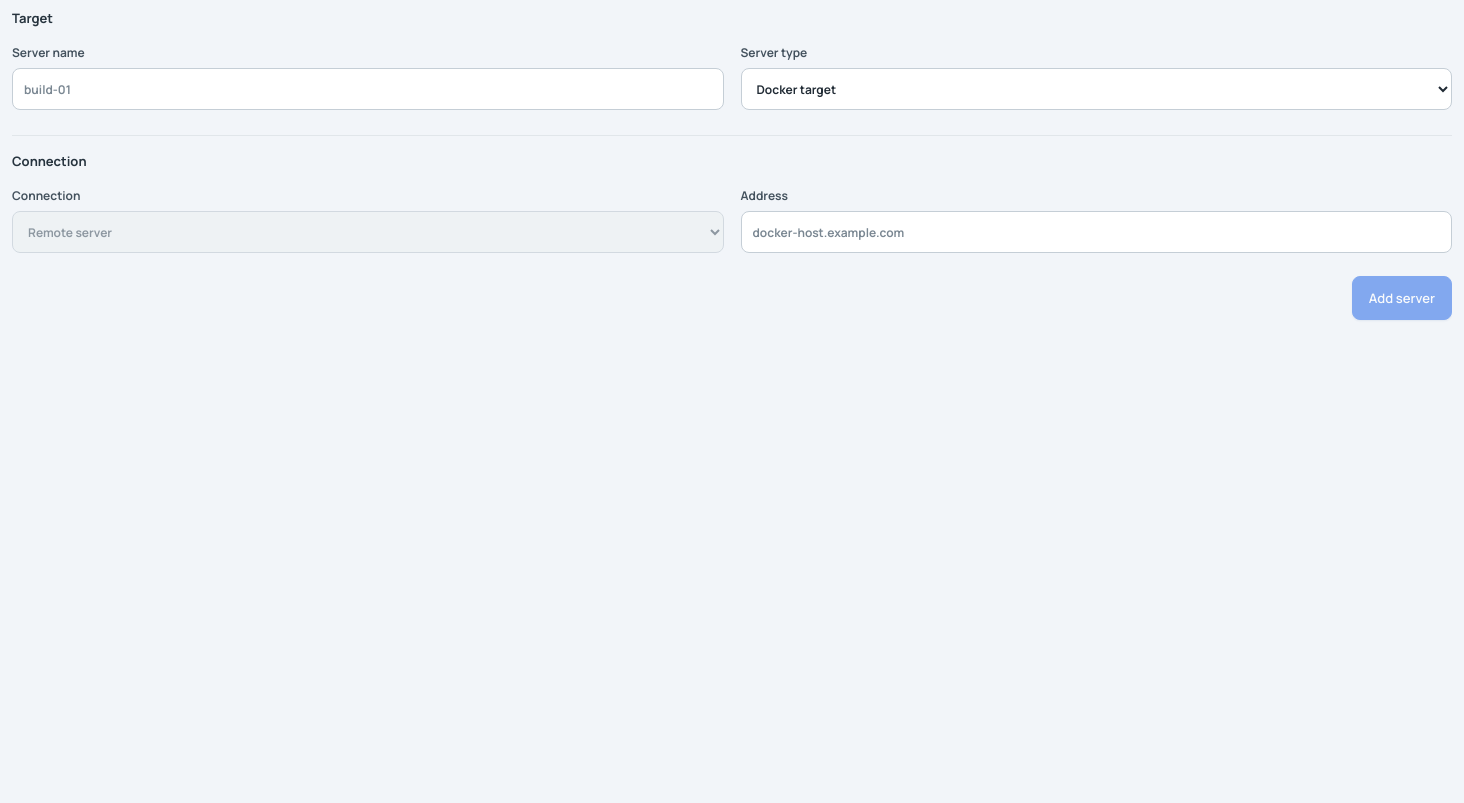
Test: Docker builder setup › fills the pinned key after checking the SSH host
Select "Docker builder" in the dropdown labelled "Server type" at (1096, 89), box left=740, top=68, right=1452, bottom=110
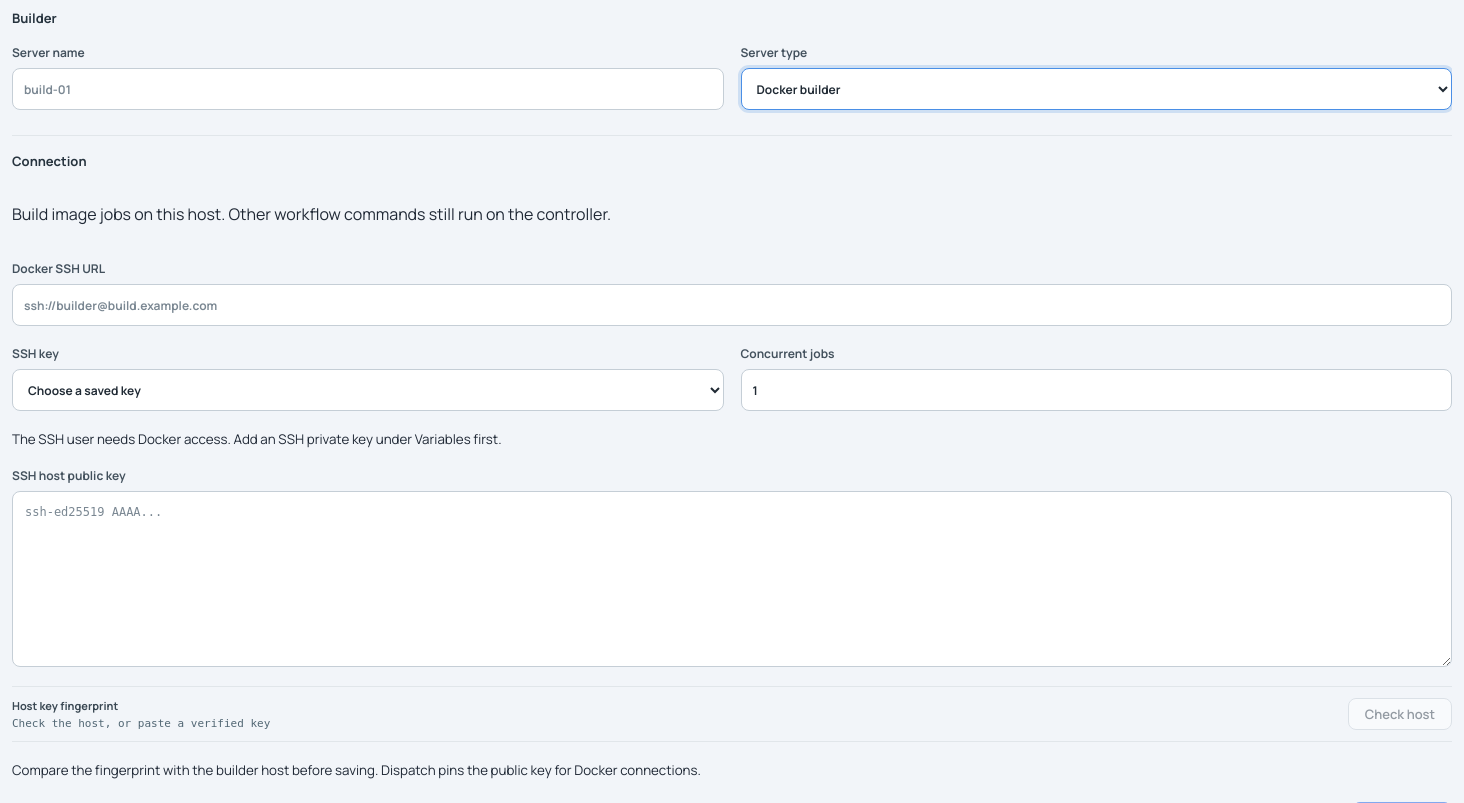
Type "ssh://build@example.com" into the field labelled "Docker SSH URL" at (732, 305), box left=12, top=284, right=1452, bottom=326
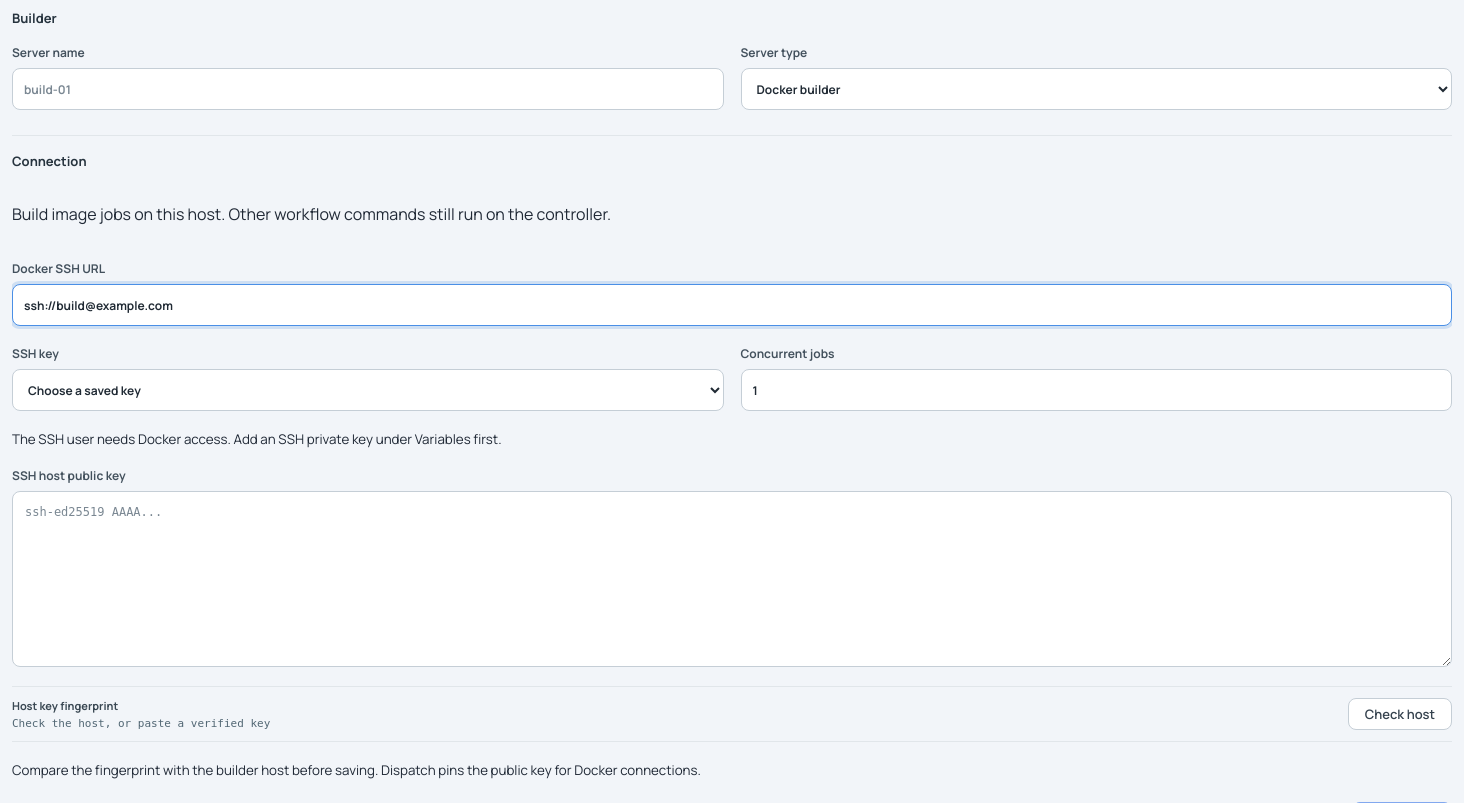
Click the button "Check host" at (1400, 714), box left=1348, top=698, right=1452, bottom=730
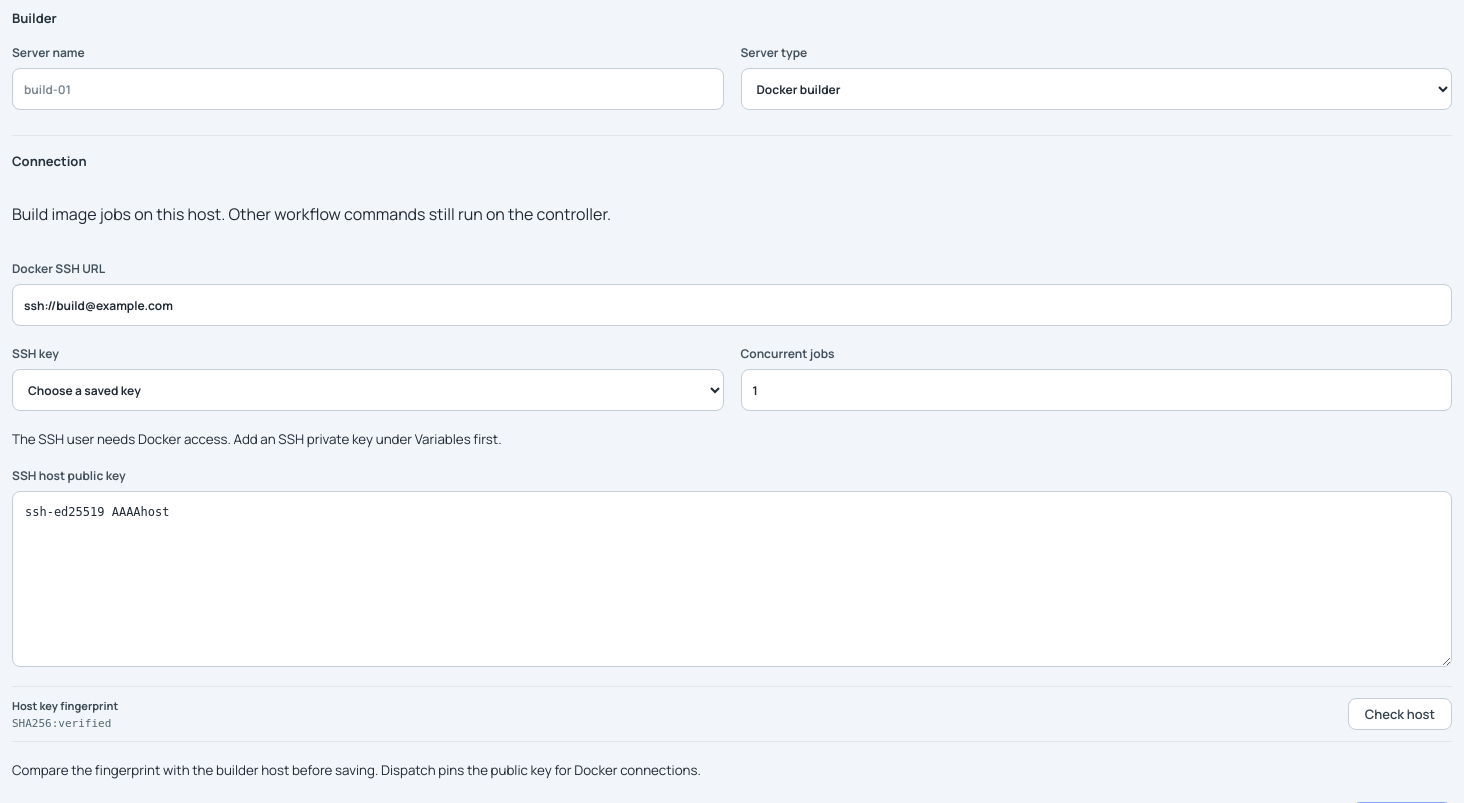
Now the text box labelled "SSH host public key" holds "ssh-ed25519 AAAAhost", box left=12, top=491, right=1452, bottom=667
Now the text "SHA256:verified" is shown, box left=12, top=717, right=118, bottom=730
